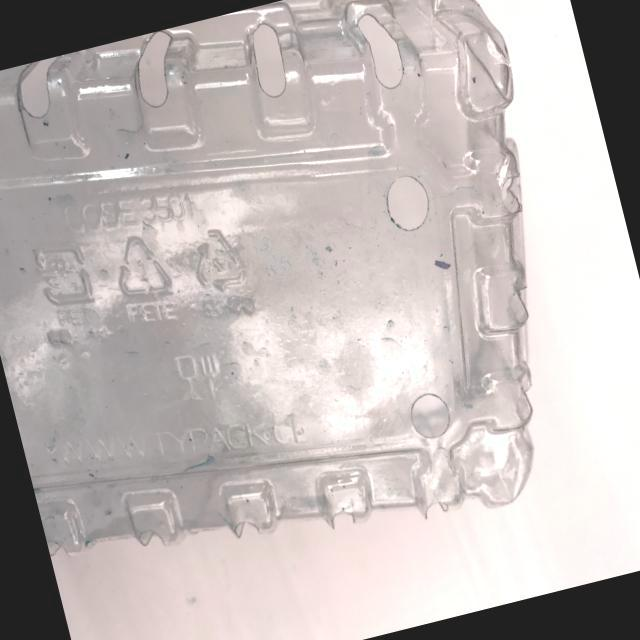plastic: (0, 0, 632, 619)
